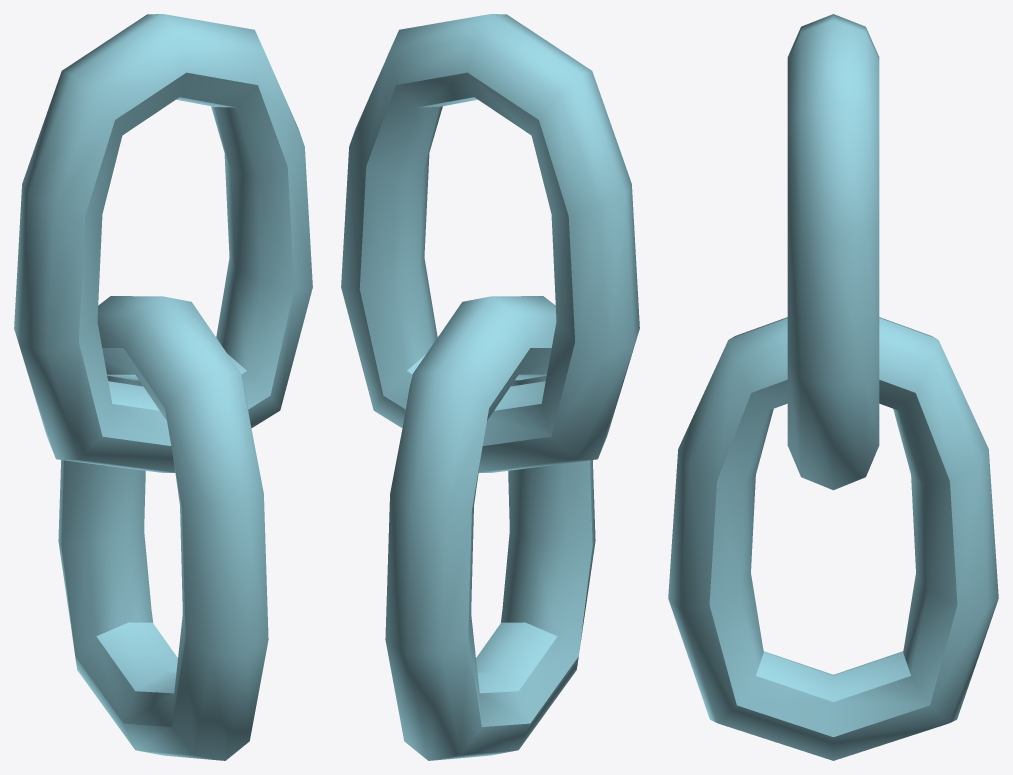
Rendered from Chain.obj.
3 renders of one model, left to right at view 1: azimuth 30°, elevation 25°; view 2: azimuth 150°, elevation 25°; view 3: azimuth 270°, elevation 25°, orthographic.
Visible parts, largest first — view 1: Torus003; view 2: Torus003; view 3: Torus003.
Boxes of the visible parts, left/top/right/bottom form: Torus003: left=14, top=14, right=312, bottom=760; Torus003: left=341, top=14, right=639, bottom=760; Torus003: left=668, top=14, right=998, bottom=760.
Size of the model in its own units: 1.63 by 4.01 by 1.63.
